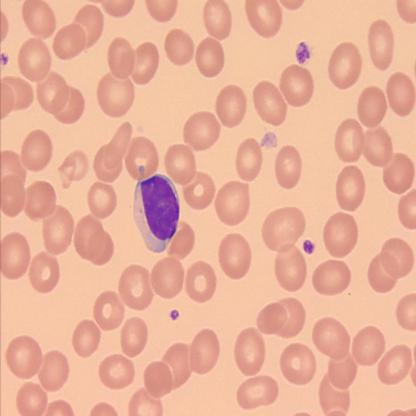Atypical lymphocyte: (134, 176, 180, 252)
